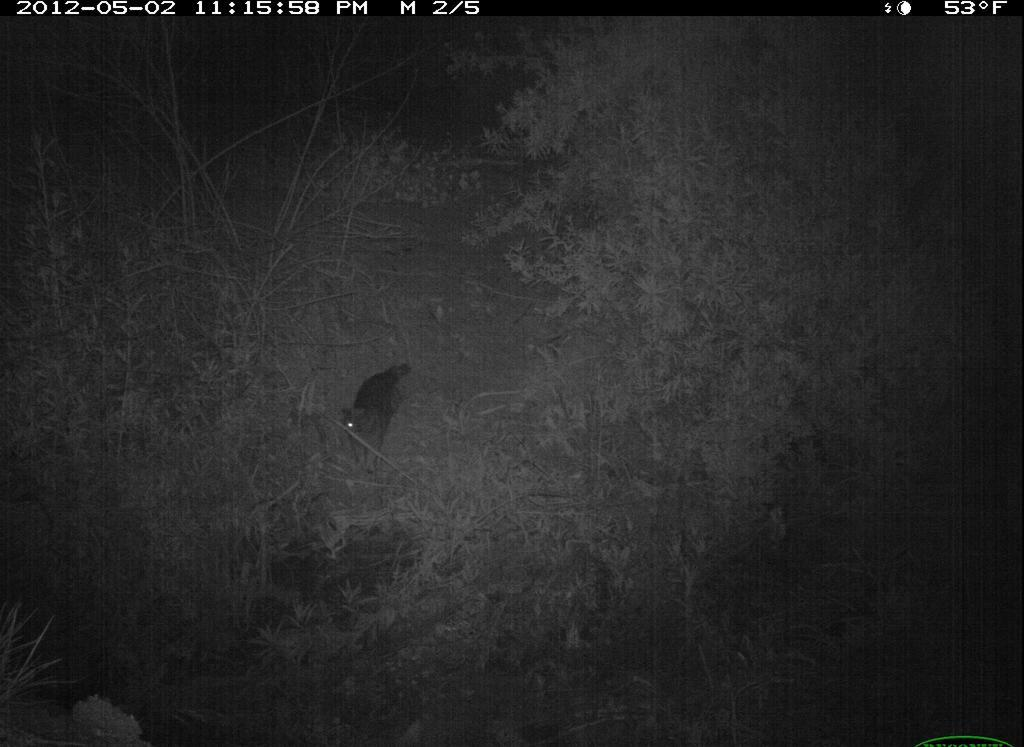cat: (336, 359, 418, 466)
